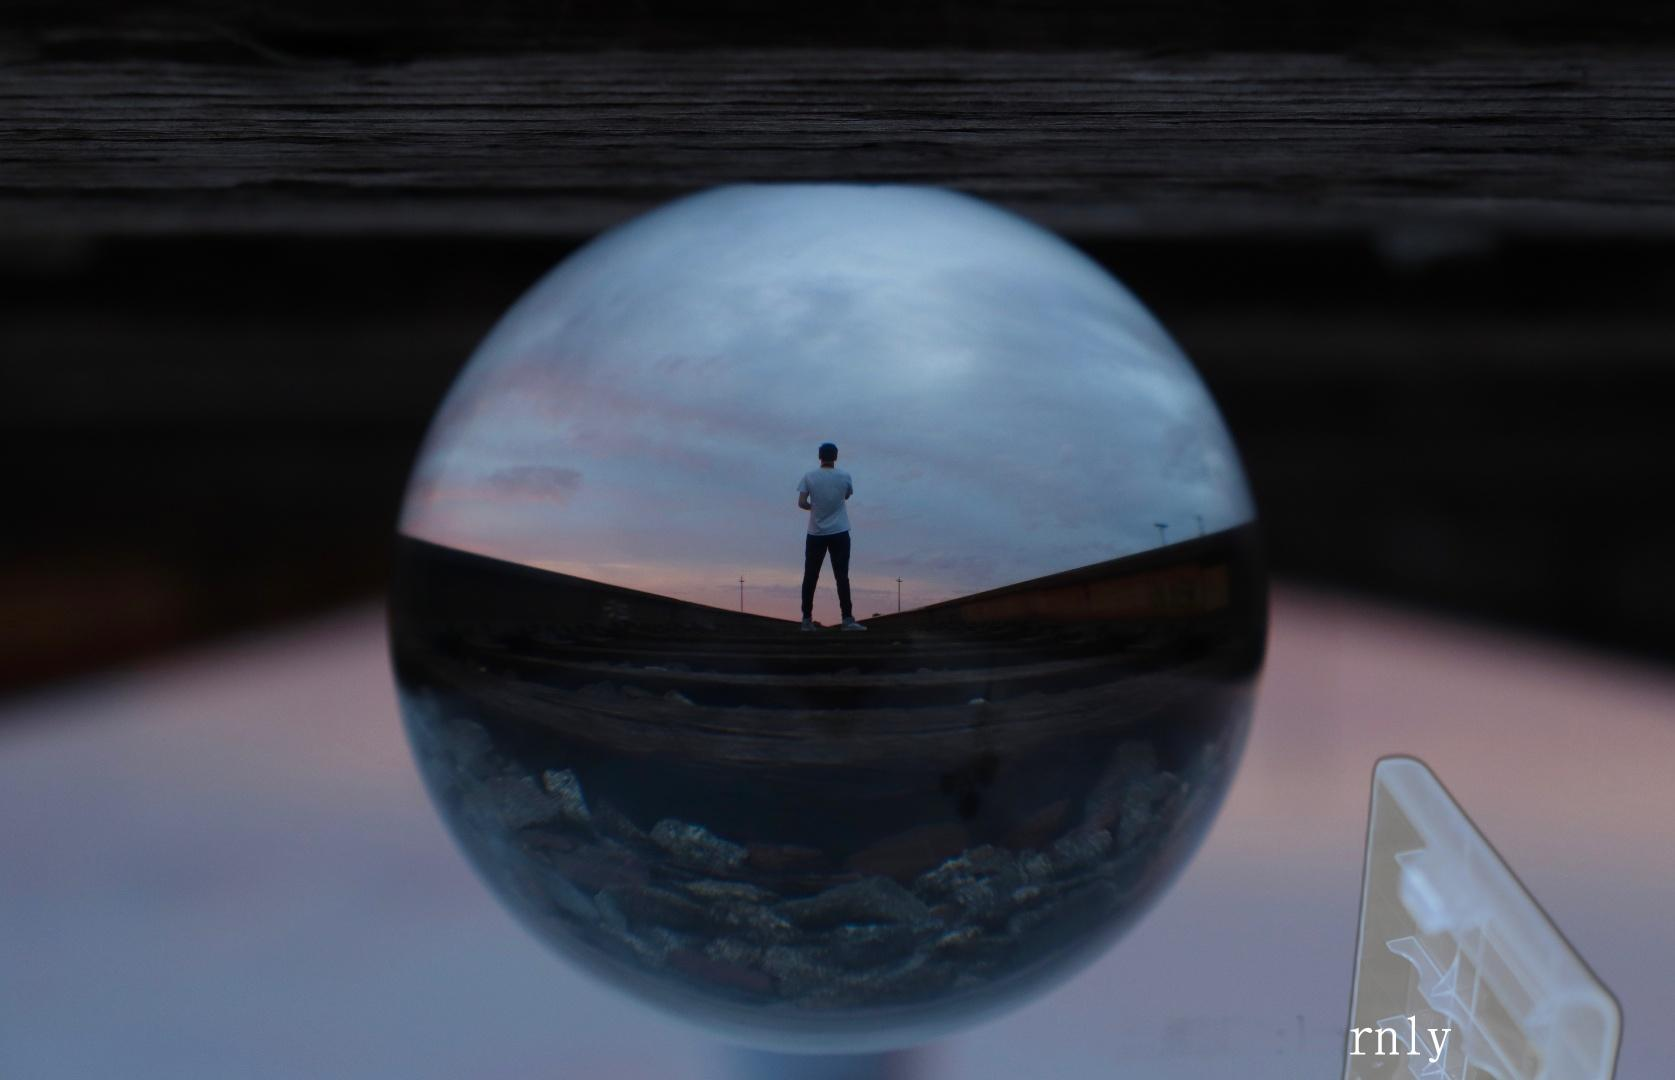battery: (925, 747, 1632, 1080)
